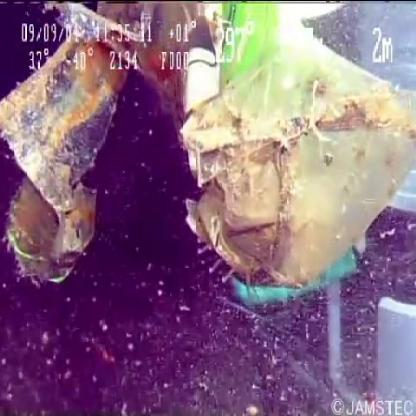Rác: (1, 6, 415, 308)
